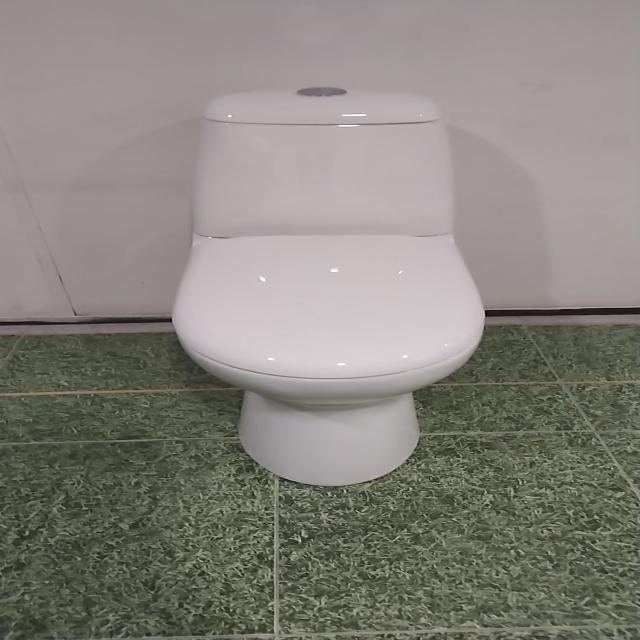toilet: (170, 86, 487, 487)
